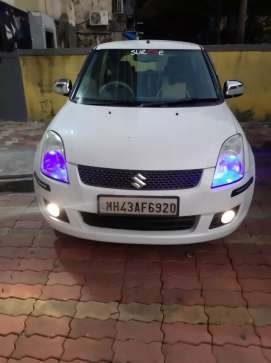license_plate: (96, 194, 183, 219)
